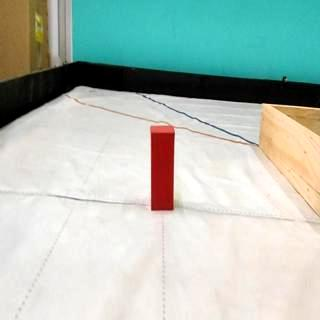redbox: (150, 124, 174, 210)
